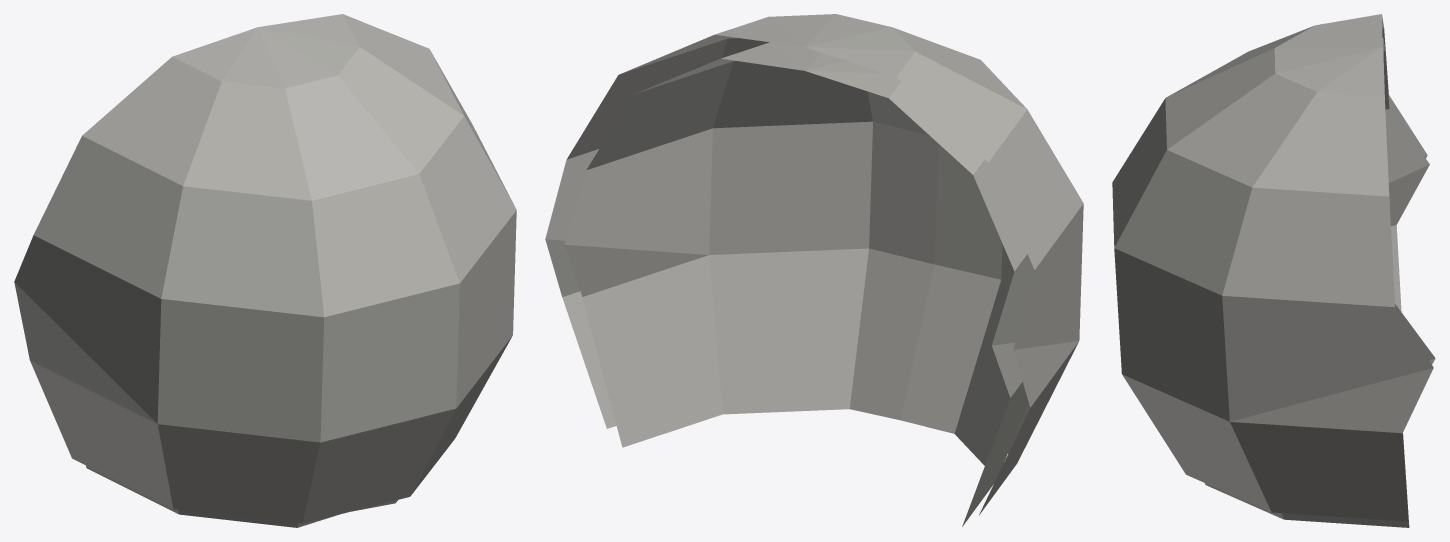
File: Astronaut2.fbx
3 views of the same model, side by side, from view 1: azimuth 30°, elevation 25°; view 2: azimuth 150°, elevation 25°; view 3: azimuth 270°, elevation 25° (orthographic). The views are drawn at different scales.
Parts seen in each view (by area): view 1: Cylinder.002; view 2: Cylinder.002; view 3: Cylinder.002.
Boxes of the visible parts, x1,y1,x2,y2 form: Cylinder.002: (14,14,516,527); Cylinder.002: (545,14,1083,526); Cylinder.002: (1112,14,1435,527).
Size of the model in its own units: 142 by 129 by 91.29.
